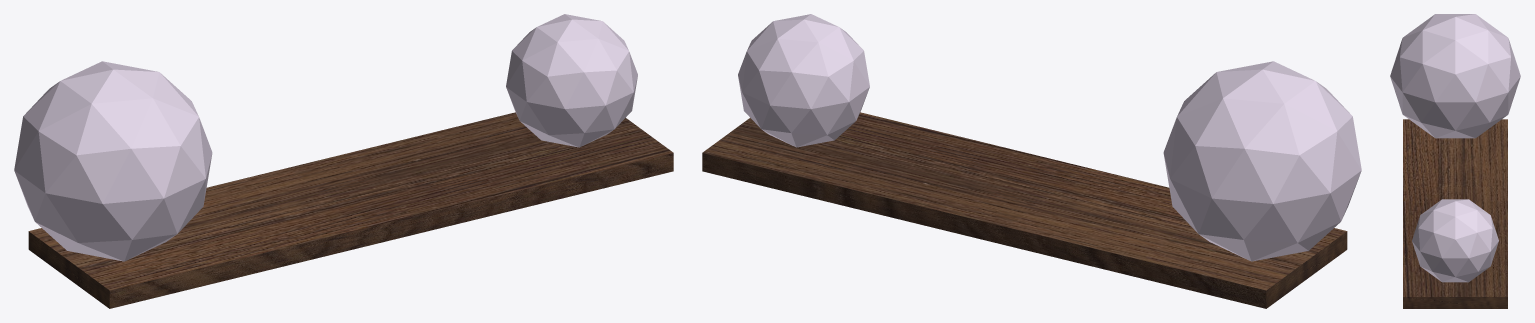
Rendered from plankL.glb.
The picture shows the model from 3 angles, left to right: view 1: azimuth 30°, elevation 25°; view 2: azimuth 150°, elevation 25°; view 3: azimuth 270°, elevation 25°; orthographic projection. The views are drawn at different scales.
Parts seen in each view (by area): view 1: Cube.001, Icosphere, Icosphere.001; view 2: Cube.001, Icosphere, Icosphere.001; view 3: Cube.001, Icosphere, Icosphere.001.
Boxes of the visible parts, x1,y1,x2,y2 form: Cube.001: (28, 112, 673, 308); Icosphere: (14, 61, 212, 261); Icosphere.001: (506, 14, 637, 147); Cube.001: (702, 112, 1347, 308); Icosphere: (1163, 61, 1361, 261); Icosphere.001: (738, 14, 869, 147); Cube.001: (1403, 119, 1507, 308); Icosphere: (1390, 14, 1520, 138); Icosphere.001: (1412, 199, 1498, 282).
Bounding box in the file's own units: 2.14 × 0.6739 × 0.6225.
Materials: 2 (1 with a texture image).
